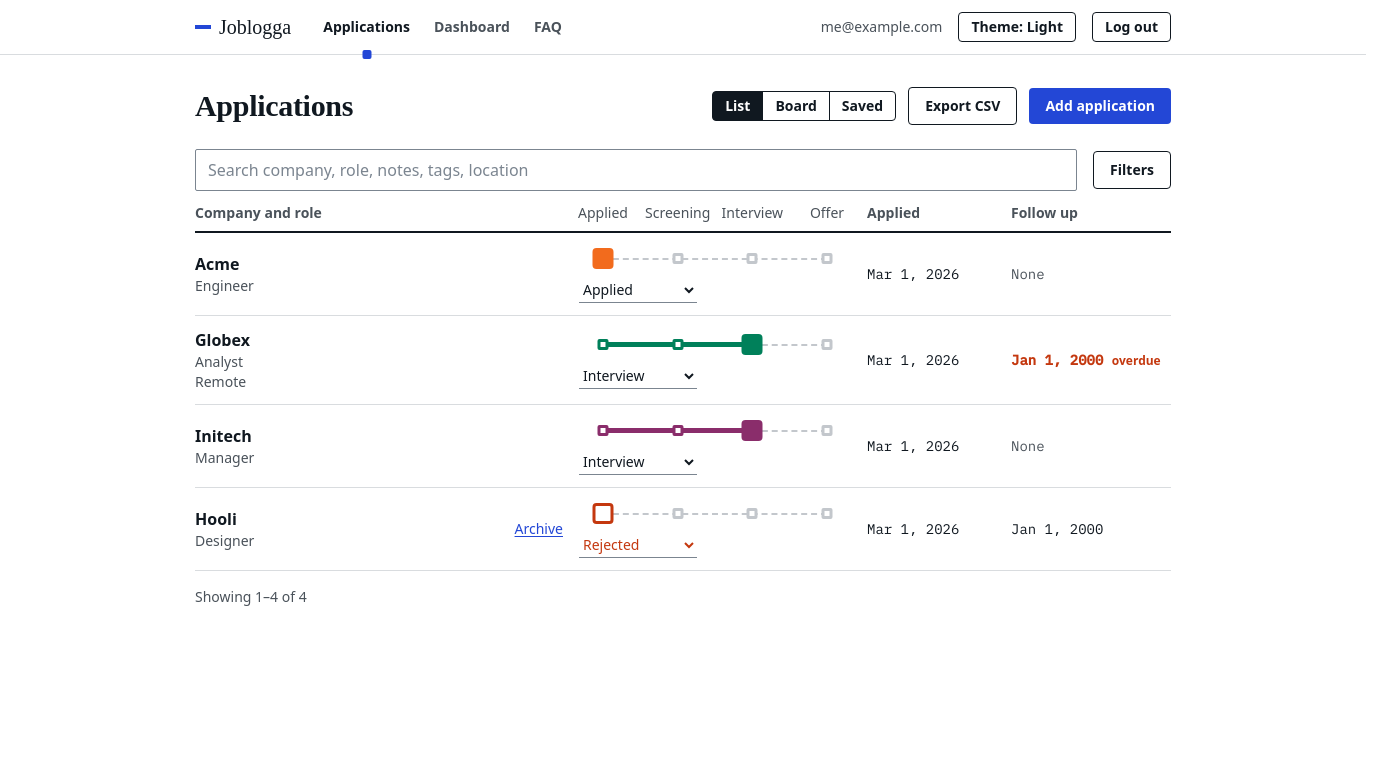
it: switching between list and board › shows the board and asks the API for everything at once, without pages
The width and height of the screenshot is (1378, 768).
Expected: the text "Acme" is shown, [195,253,239,275]
Click the button "Board" at [796, 106], box [762,91,830,121]
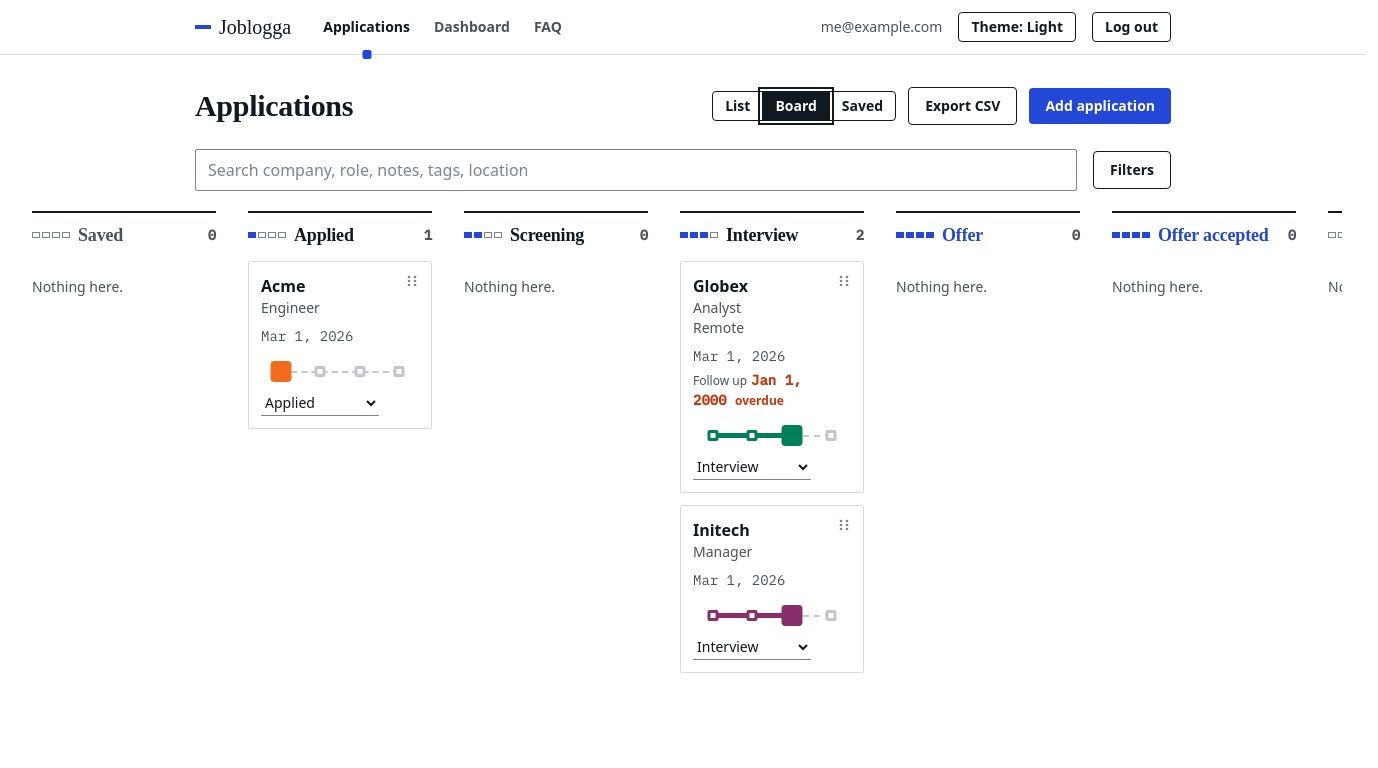
Expected: the element named "Applied, 1" is shown, [248,211,432,429]
